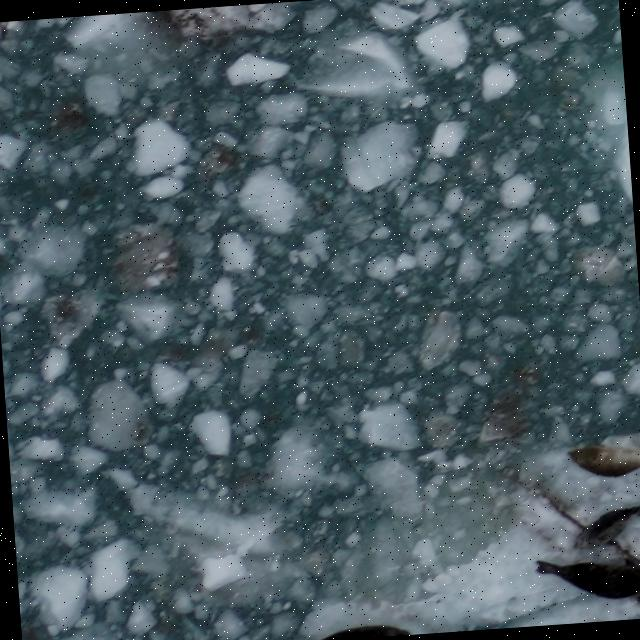seal: (525, 547, 640, 616), (565, 501, 640, 556), (560, 439, 640, 482)
